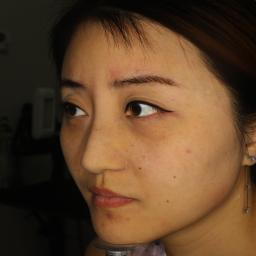ance: (125, 137, 143, 157), (160, 129, 178, 143), (130, 62, 144, 78), (180, 145, 196, 157), (102, 210, 118, 222), (134, 162, 146, 174), (168, 170, 180, 182)
